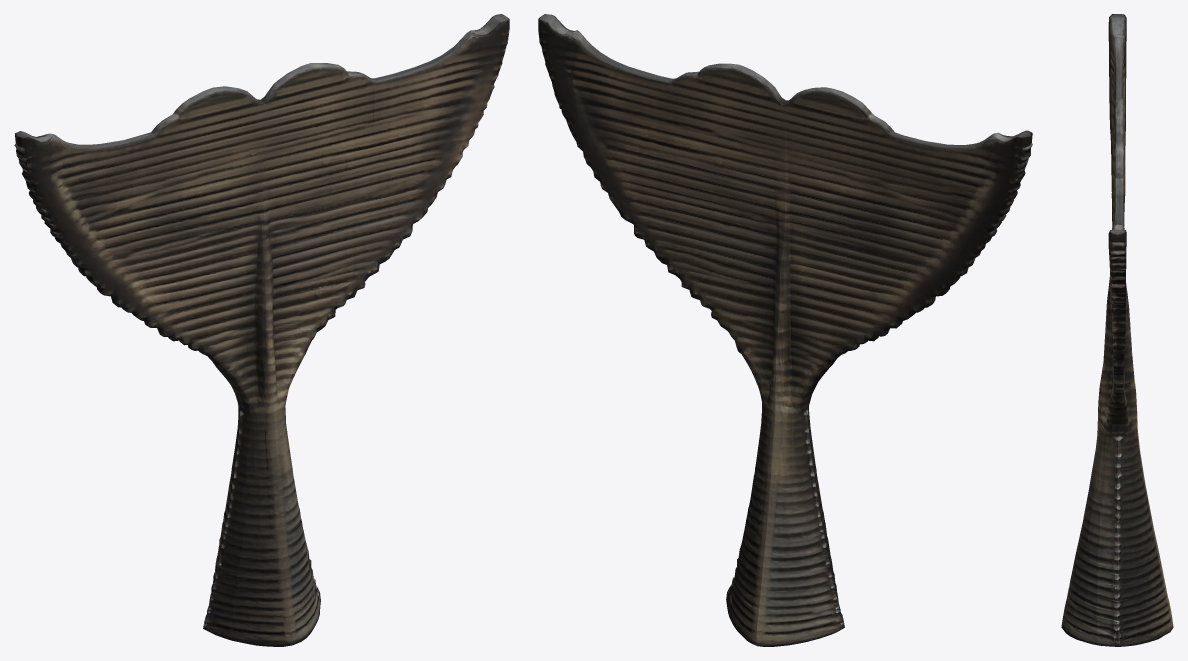
Rendered from colaBallena.glb.
The picture shows the model from 3 angles, left to right: view 1: azimuth 30°, elevation 25°; view 2: azimuth 150°, elevation 25°; view 3: azimuth 270°, elevation 25°; orthographic projection. The views are drawn at different scales.
Parts seen in each view (by area): view 1: world; view 2: world; view 3: world.
Part boxes in pixels (bbox=[...]): world: bbox=[14, 14, 509, 646]; world: bbox=[538, 14, 1032, 646]; world: bbox=[1061, 14, 1173, 646].
Size of the model in its own units: 0.9257 by 0.9918 by 0.1988.
Materials: 1 (1 with a texture image).
